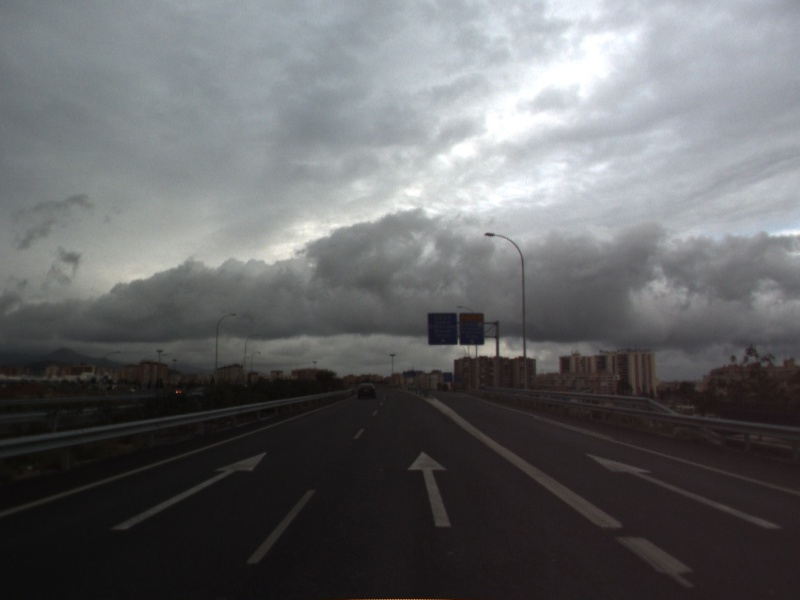STRAIGHT: (583, 451, 784, 532), (109, 450, 269, 532), (405, 449, 454, 529)
